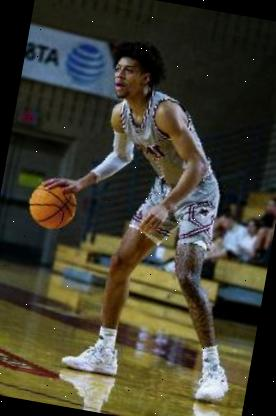person: (26, 31, 276, 416)
